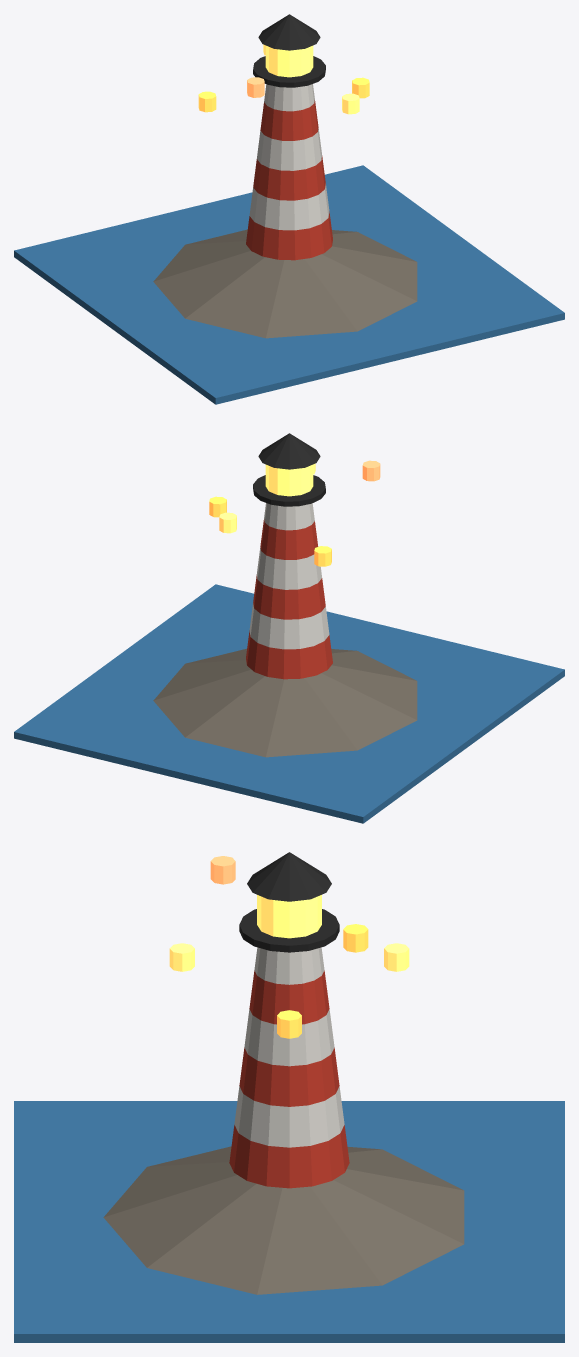
The model's file is lantern-lighthouse.glb.
3 views of the same model, one above another, from view 1: azimuth 30°, elevation 25°; view 2: azimuth 150°, elevation 25°; view 3: azimuth 270°, elevation 25° (orthographic). The views are drawn at different scales.
Parts seen in each view (by area): view 1: lantern-lighthouse; view 2: lantern-lighthouse; view 3: lantern-lighthouse.
Boxes of the visible parts, <box> form: lantern-lighthouse: <box>14,14,564,404</box>; lantern-lighthouse: <box>14,433,564,823</box>; lantern-lighthouse: <box>14,852,564,1342</box>.
Size of the model in its own units: 1.33 by 1 by 1.33.
